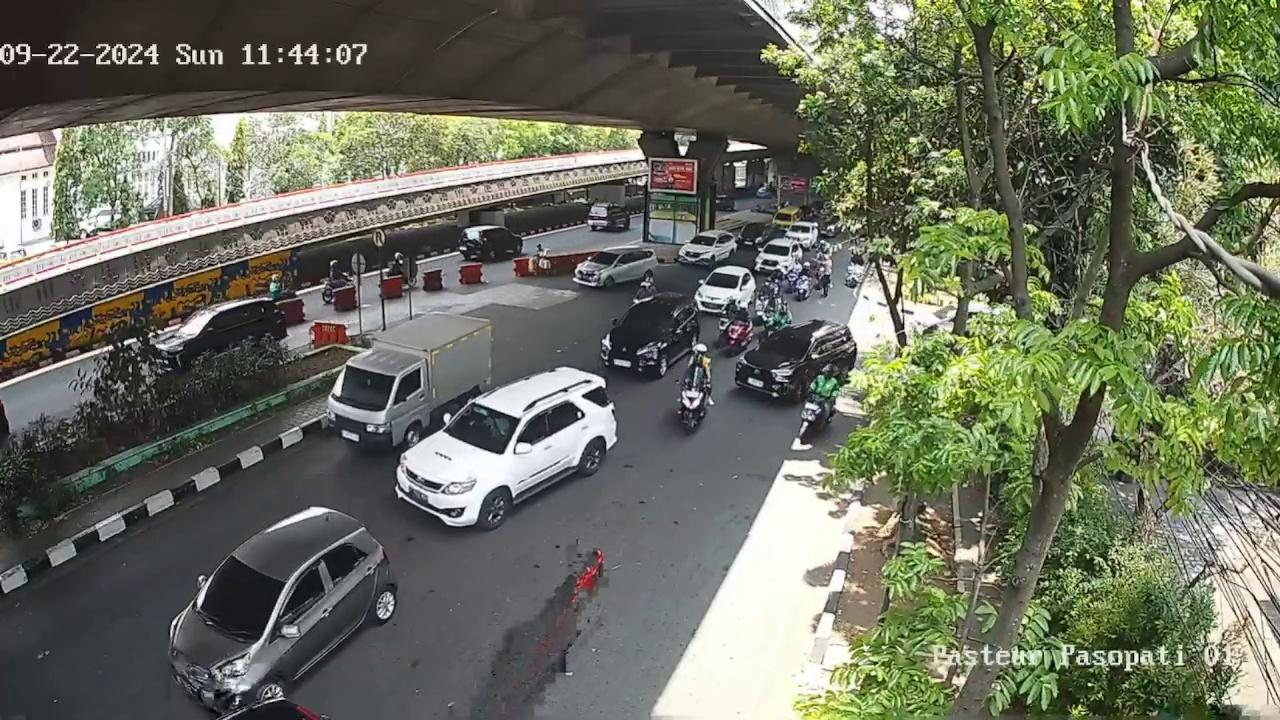pakai: (479, 410, 509, 441)
windshield: (190, 556, 287, 633), (450, 395, 520, 451), (322, 368, 401, 408), (615, 306, 672, 339), (763, 331, 810, 361), (705, 271, 741, 288)
